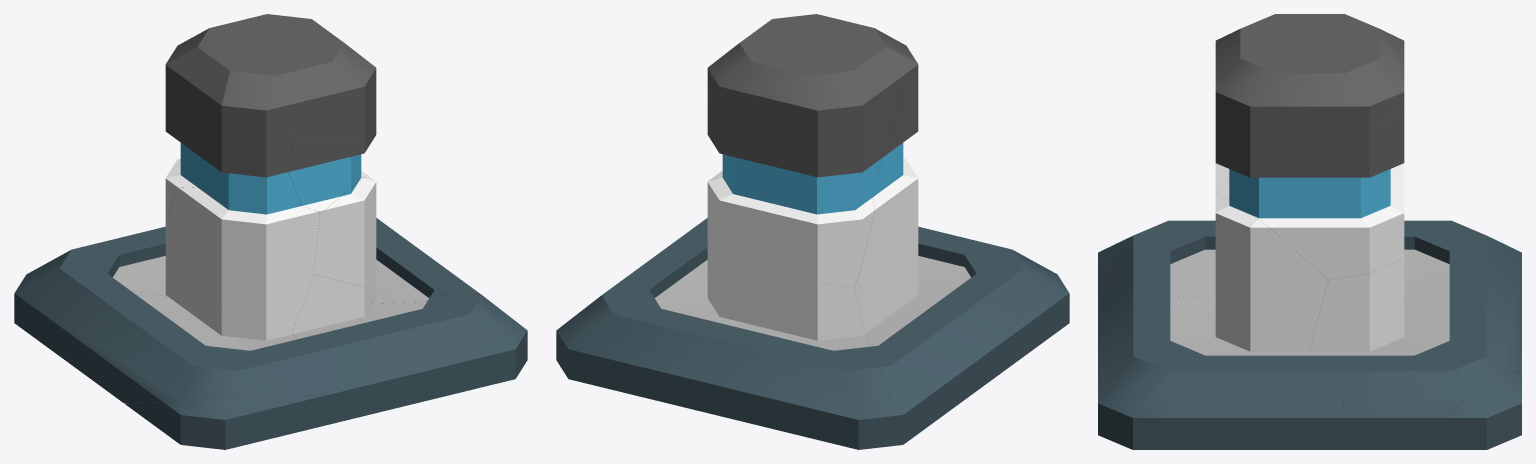
Rendered from Modun_Fractured.fbx.
The picture shows the model from 3 angles, left to right: view 1: azimuth 30°, elevation 25°; view 2: azimuth 150°, elevation 25°; view 3: azimuth 270°, elevation 25°; orthographic projection. The views are drawn at different scales.
Visible parts, largest first — view 1: modun_cell.003, modun_cell.006, modun_cell.002, modun_cell.001, modun_cell.007, modun_cell.005, modun_cell.004; view 2: modun_cell.004, modun_cell.003, modun_cell.007, modun_cell.002, modun_cell, modun_cell.005, modun_cell.001; view 3: modun_cell.004, modun_cell.001, modun_cell.002, modun_cell.007, modun_cell.006, modun_cell.003, modun_cell, modun_cell.005.
Part boxes in pixels (left/top/right/bottom): modun_cell.003: left=14, top=97, right=335, bottom=402; modun_cell.006: left=292, top=274, right=527, bottom=421; modun_cell.002: left=181, top=14, right=376, bottom=138; modun_cell.001: left=313, top=175, right=480, bottom=303; modun_cell.007: left=165, top=37, right=376, bottom=220; modun_cell.005: left=124, top=394, right=339, bottom=449; modun_cell.004: left=17, top=218, right=400, bottom=296; modun_cell.004: left=579, top=225, right=901, bottom=449; modun_cell.003: left=854, top=45, right=1056, bottom=444; modun_cell.007: left=707, top=77, right=905, bottom=287; modun_cell.002: left=707, top=14, right=910, bottom=98; modun_cell: left=556, top=313, right=655, bottom=400; modun_cell.005: left=1013, top=264, right=1069, bottom=364; modun_cell.001: left=654, top=218, right=707, bottom=273; modun_cell.004: left=1308, top=224, right=1521, bottom=449; modun_cell.001: left=1170, top=193, right=1344, bottom=449; modun_cell.002: left=1215, top=14, right=1404, bottom=162; modun_cell.007: left=1215, top=35, right=1404, bottom=279; modun_cell.006: left=1098, top=285, right=1239, bottom=449; modun_cell.003: left=1098, top=163, right=1459, bottom=309; modun_cell: left=1426, top=371, right=1521, bottom=449; modun_cell.005: left=1098, top=245, right=1112, bottom=306.
Size of the model in its own units: 816 by 667 by 810.
